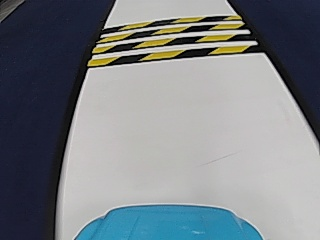bump: (109, 16, 236, 68)
